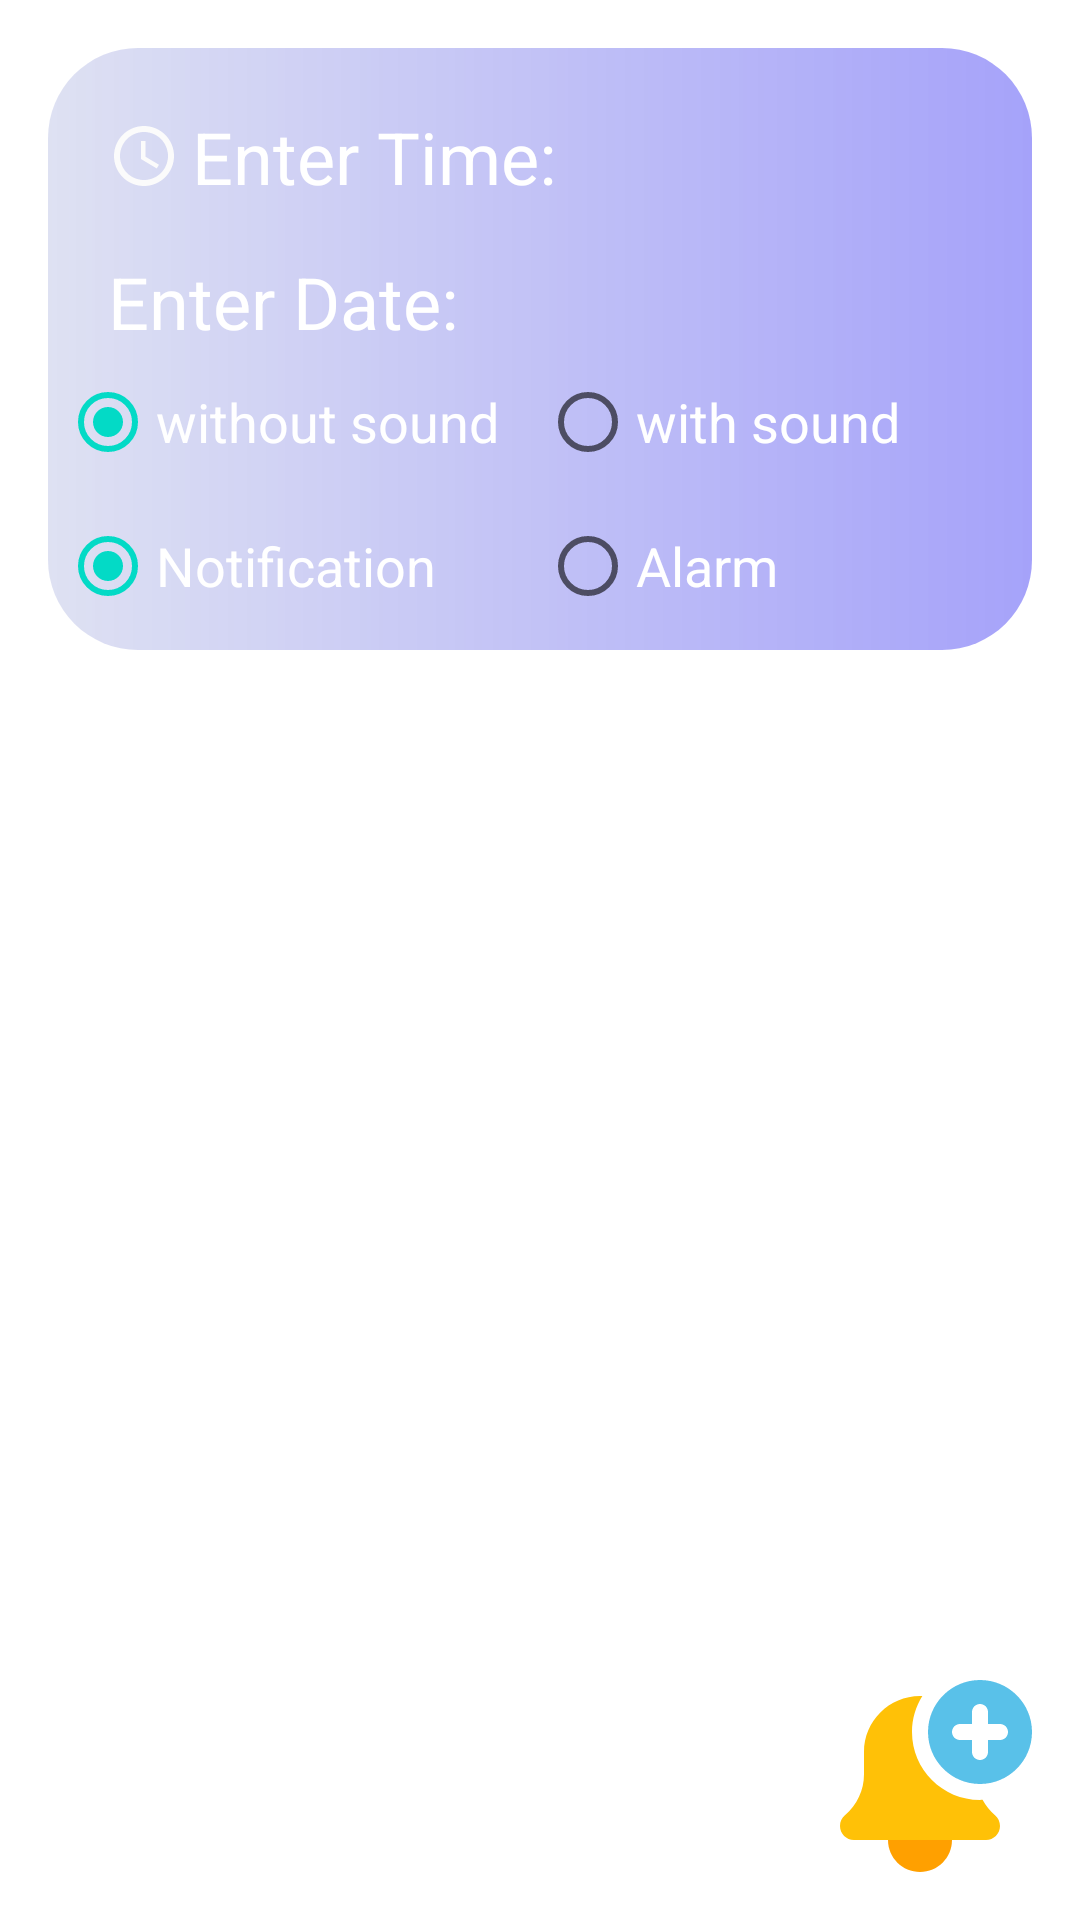

Named icons in this screenshot (1080×1920) and their bounding boxes, (x1, y1, x2, y2):
add bell: (840, 1680, 1032, 1872)
